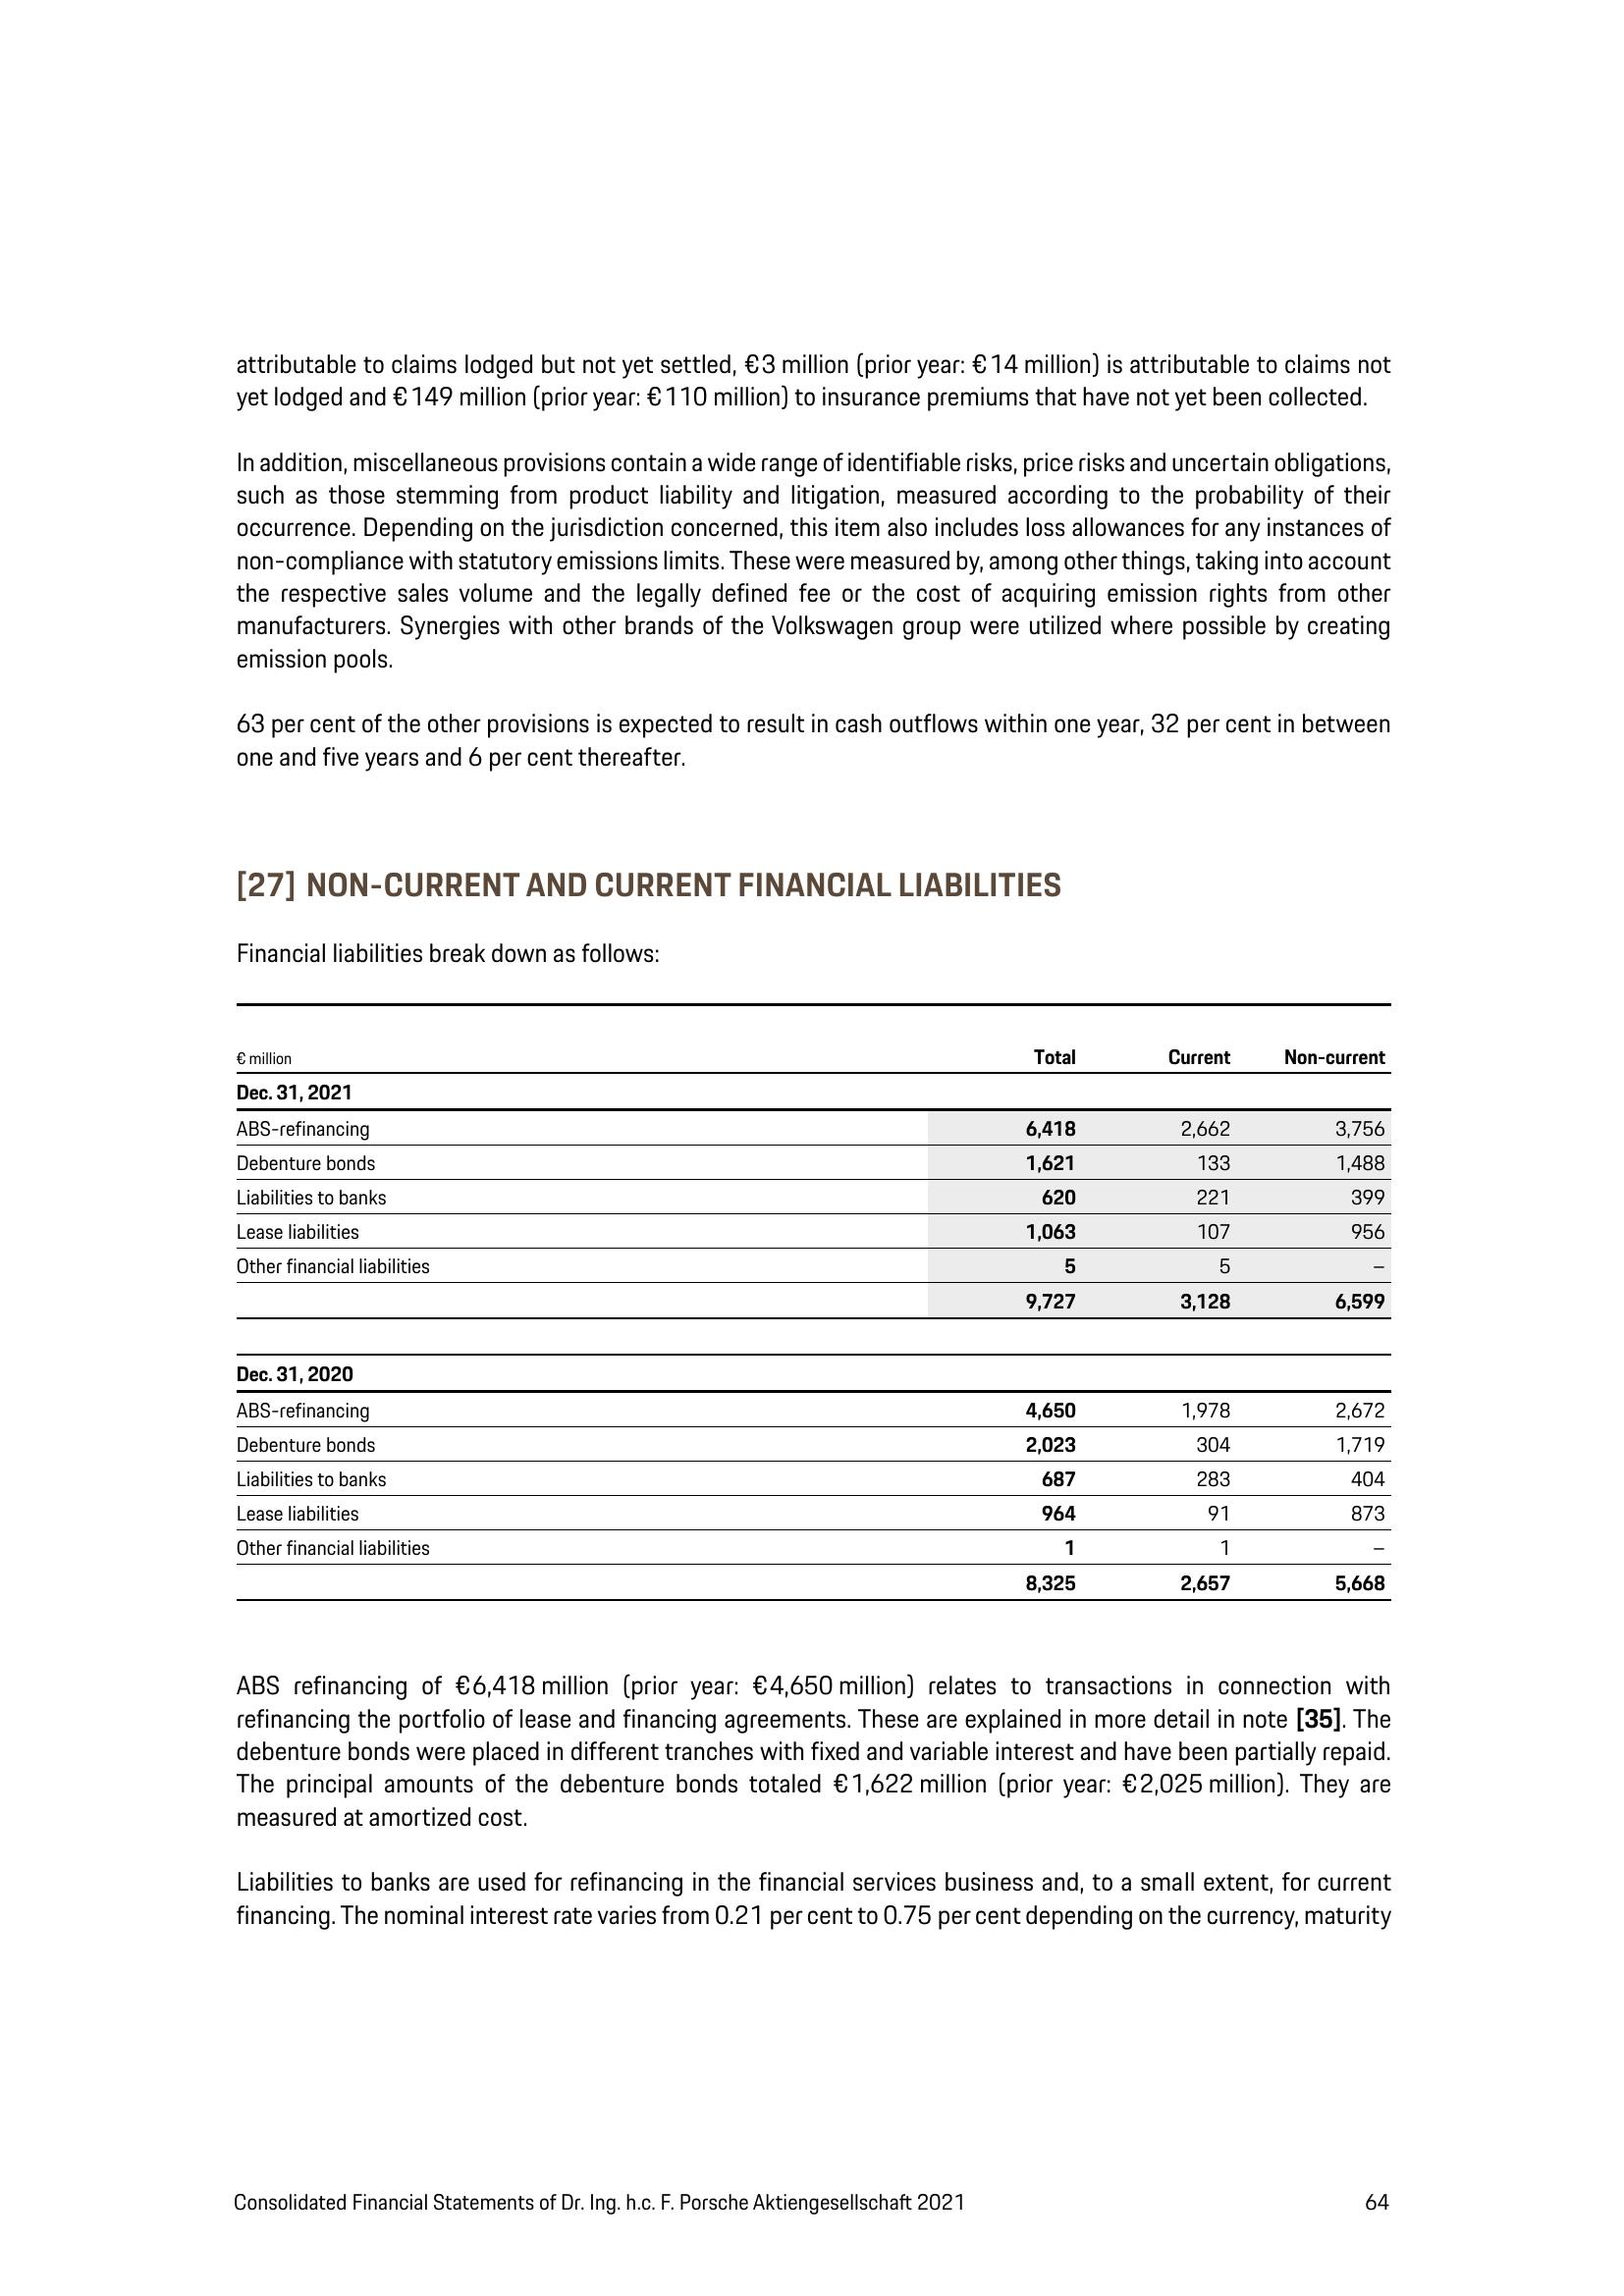Footer: (0, 2148, 1624, 2296)
Header: (0, 0, 1624, 214)
Table: (199, 984, 1411, 1325), (213, 1356, 1425, 1607)
